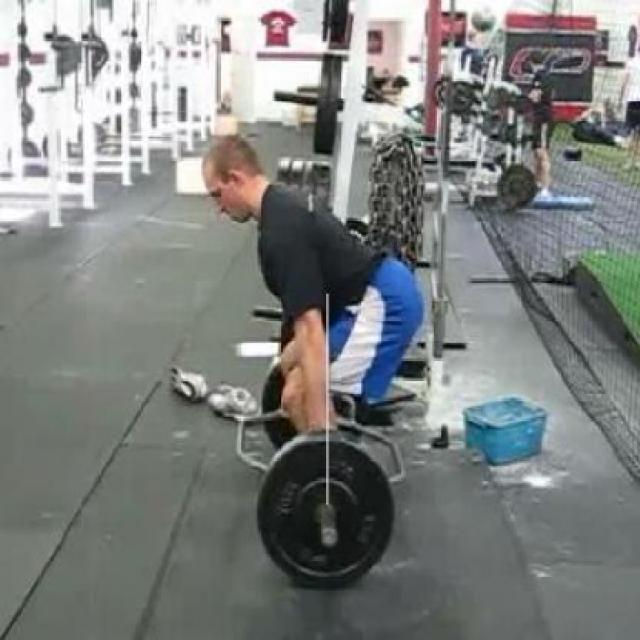Barbell: (317, 526, 340, 552)
